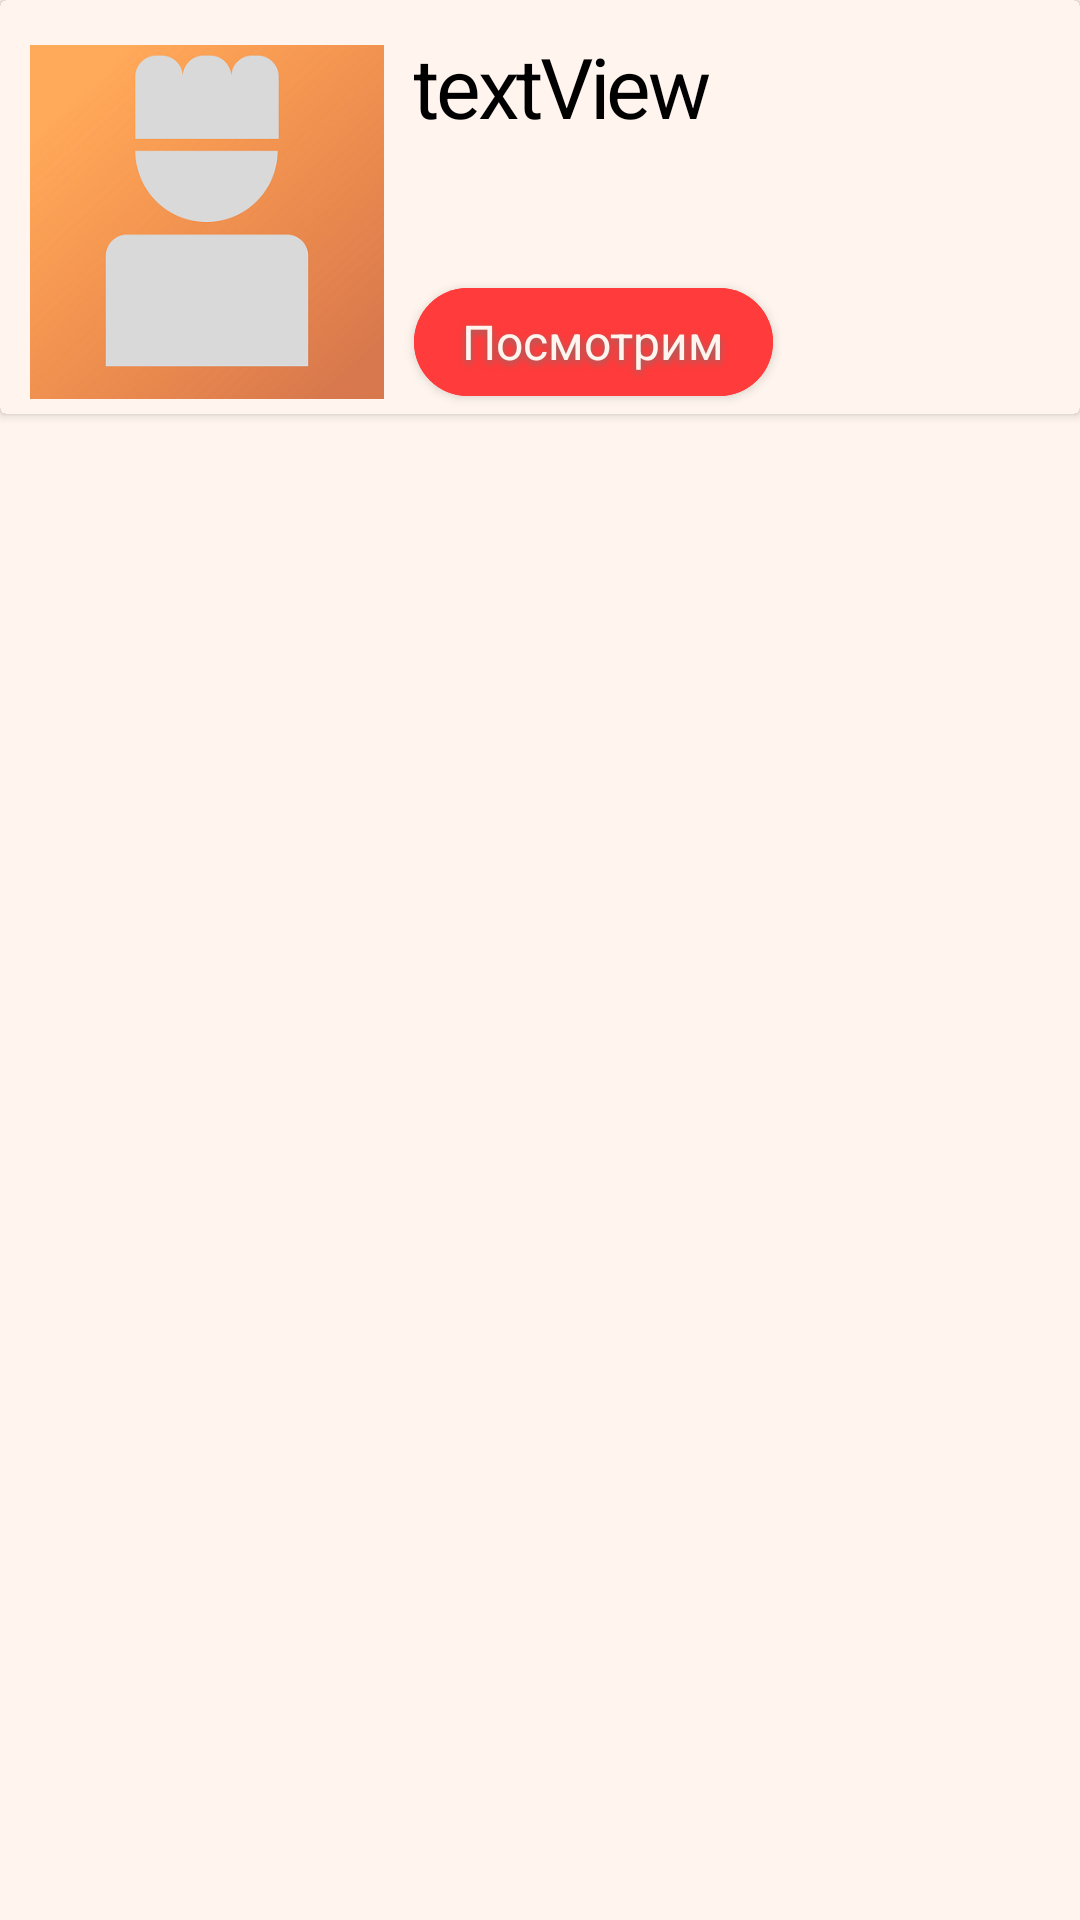

Icon bounding boxes for this 1080w x 1920h phone screenshot, format (x1, y1, x2, y2):
unknown person: (30, 45, 384, 399)
